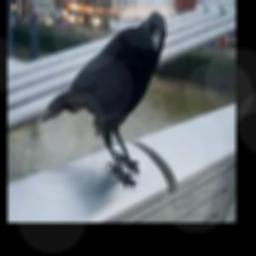Crow: (41, 12, 165, 188)
